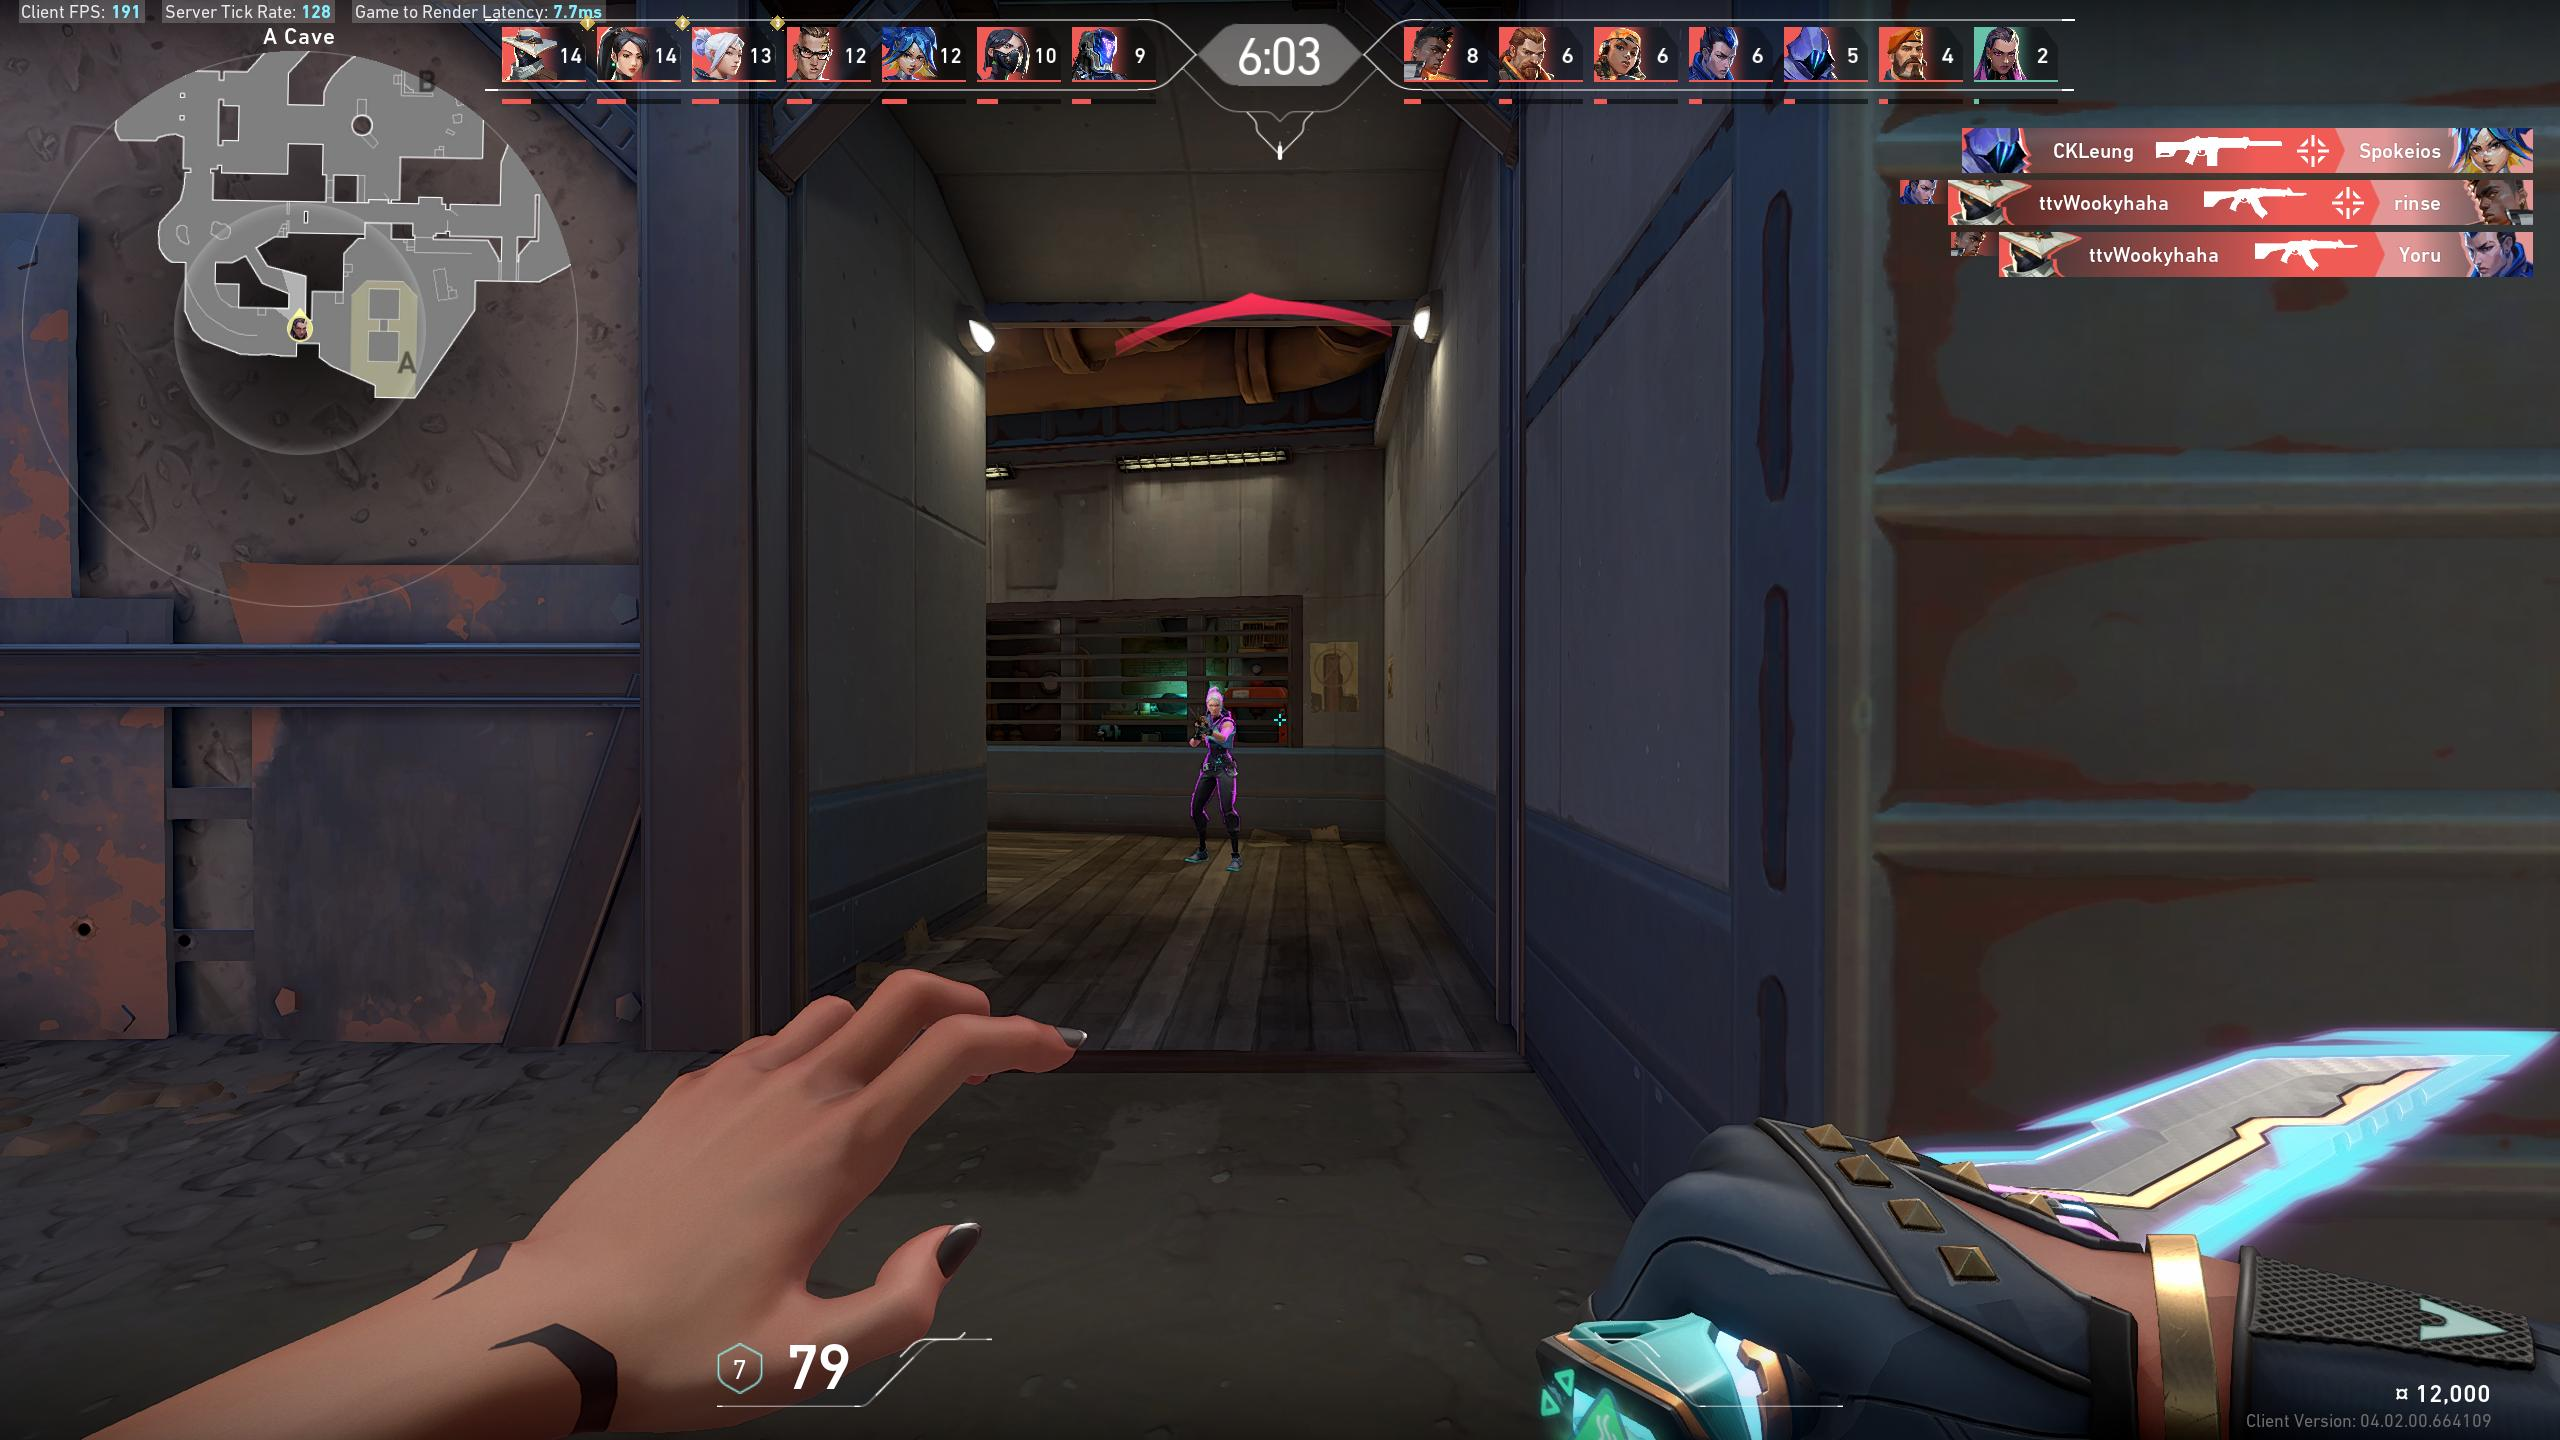enemyBody: (1208, 719, 1225, 751)
enemyHead: (1208, 700, 1220, 714)
